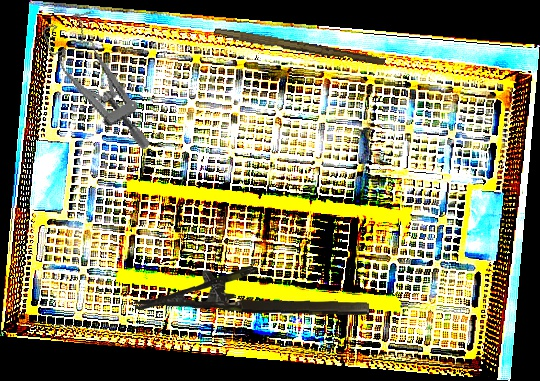Needle Holder: (134, 262, 371, 318)
Scalpel Handle: (213, 27, 386, 67)
Speculum: (40, 3, 153, 169)
